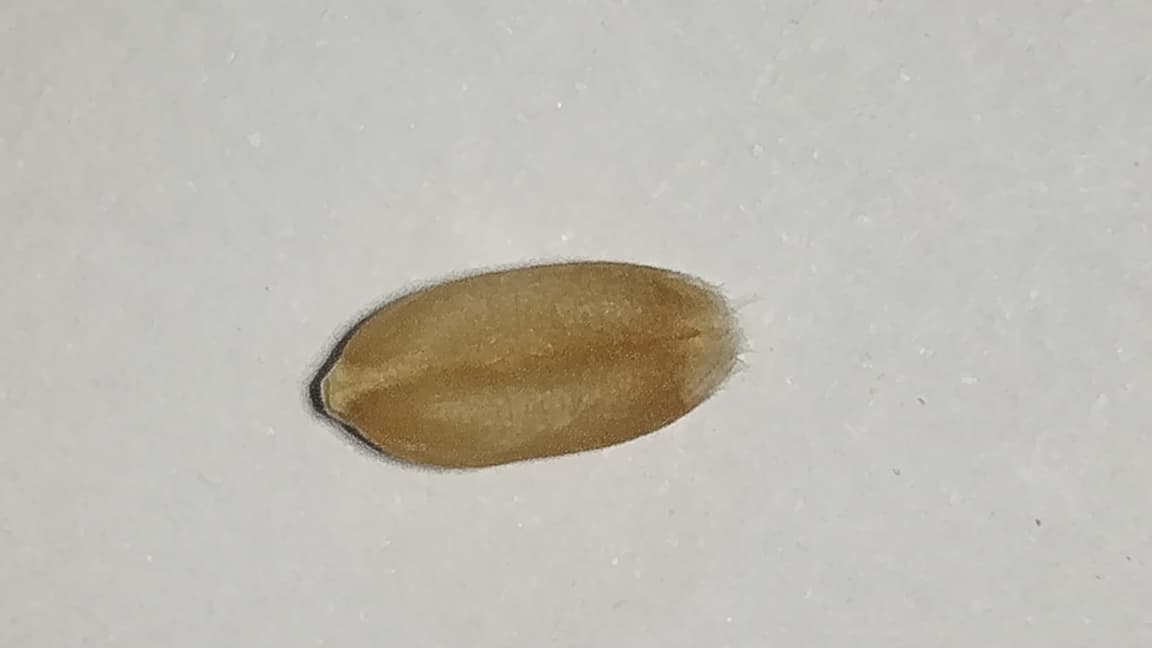healthy: (320, 264, 745, 469)
